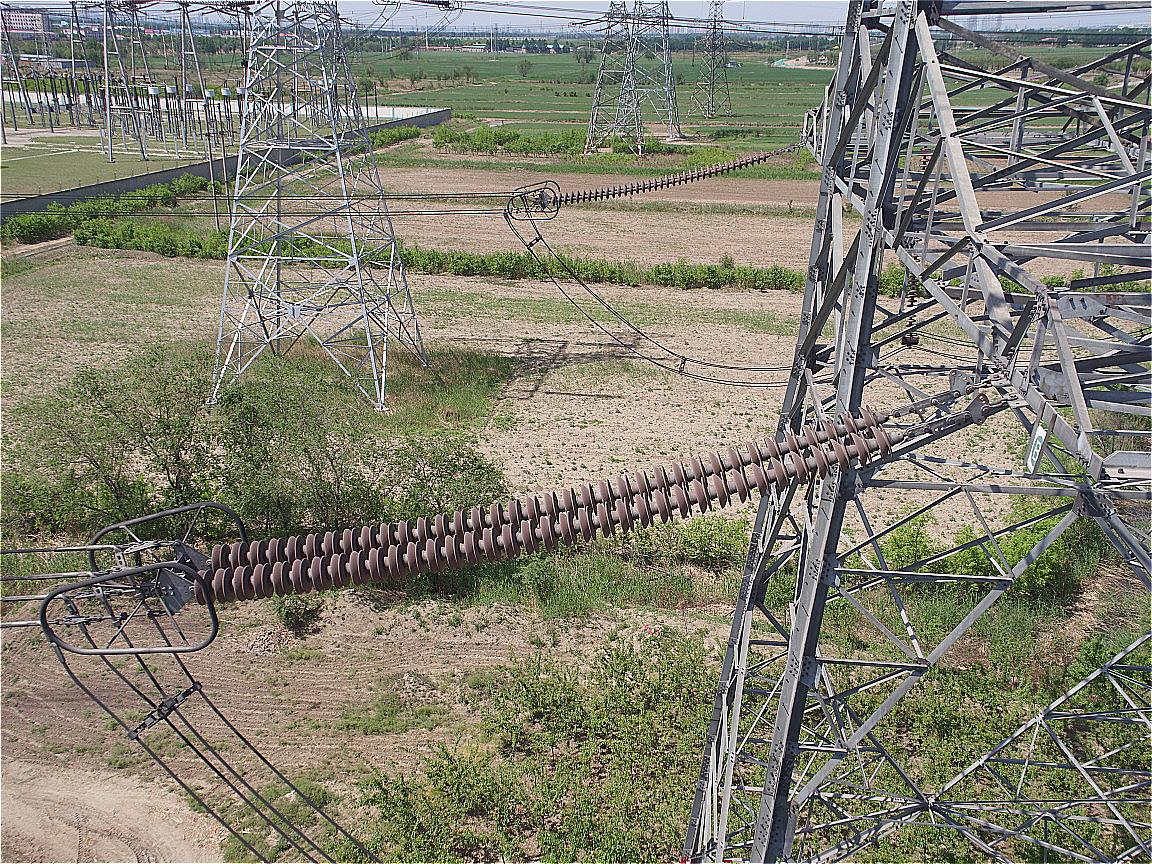insultor1: (551, 148, 772, 208)
insultor2: (192, 404, 893, 608)
